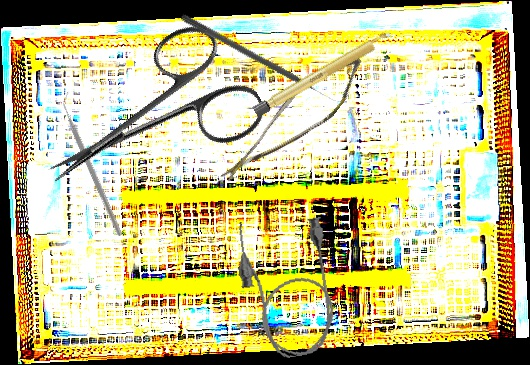Cannula: (230, 208, 344, 364)
Chopper: (16, 91, 172, 237)
Iris Scissors: (20, 11, 273, 233)
Micro Scissor: (219, 34, 371, 210)
Pusher: (178, 12, 338, 107)
Scalpel Handle: (252, 28, 395, 119)
